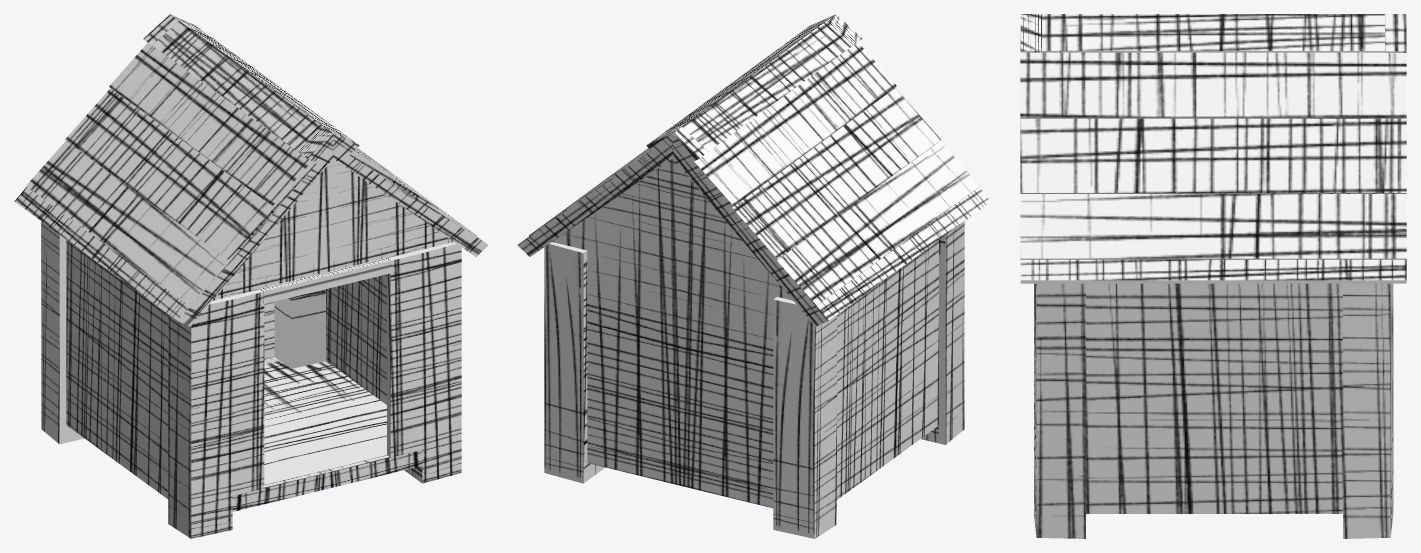
Rendered from Buda_Psa.fbx.
The picture shows the model from 3 angles, left to right: view 1: azimuth 30°, elevation 25°; view 2: azimuth 150°, elevation 25°; view 3: azimuth 270°, elevation 25°; orthographic projection. The views are drawn at different scales.
Parts seen in each view (by area): view 1: Cube; view 2: Cube; view 3: Cube.
Boxes of the visible parts, left/top/right/bottom form: Cube: left=14, top=14, right=488, bottom=538; Cube: left=517, top=14, right=991, bottom=538; Cube: left=1020, top=14, right=1406, bottom=538.
Size of the model in its own units: 362 by 420 by 330.
Materials: 1 (1 with a texture image).
